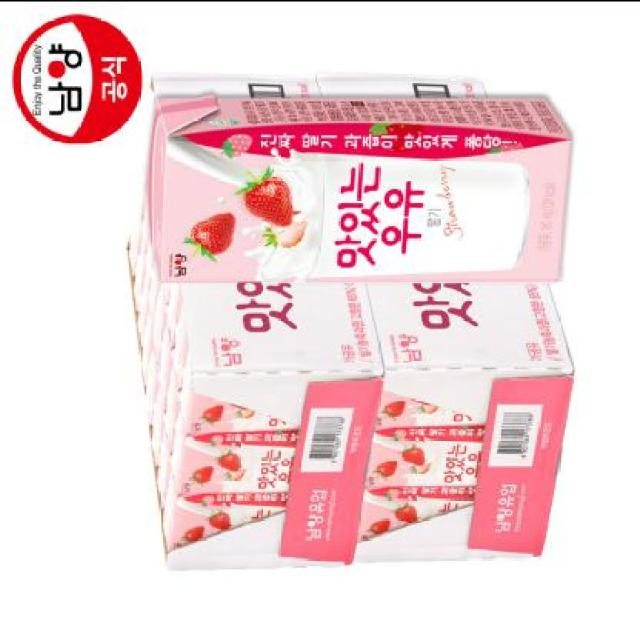tetra: (127, 53, 585, 302)
